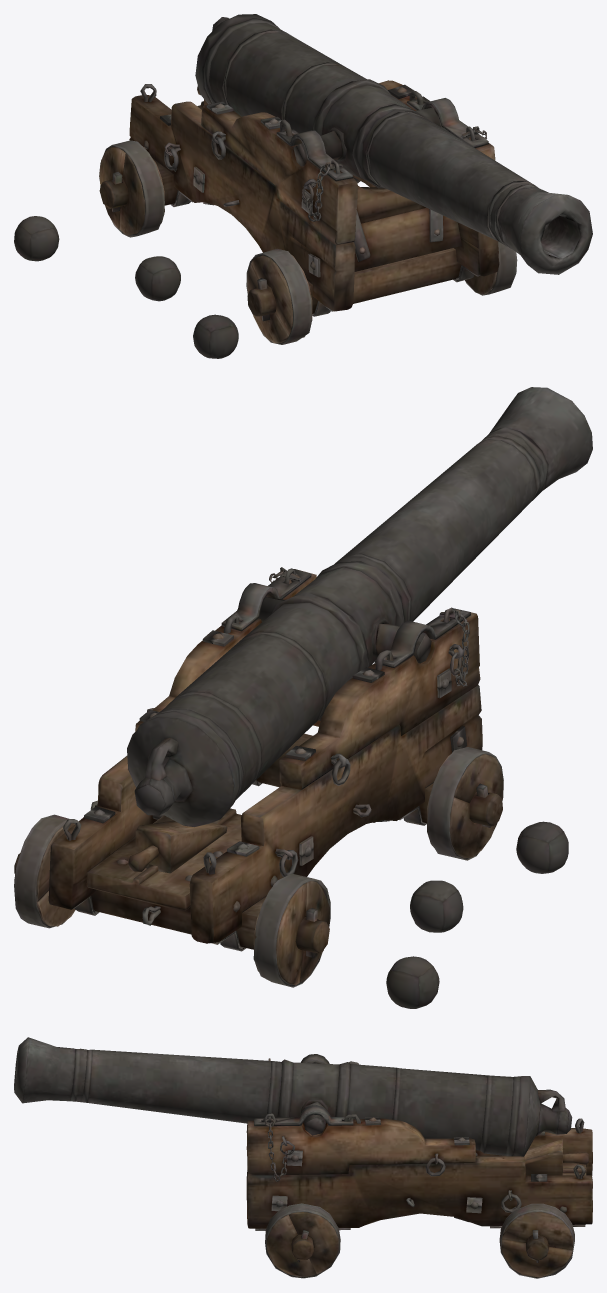
Rendered from cannon.glb.
3 renders of one model, top to bottom at view 1: azimuth 30°, elevation 25°; view 2: azimuth 150°, elevation 25°; view 3: azimuth 270°, elevation 25°, orthographic. The views are drawn at different scales.
Visible parts, largest first — view 1: cannon_01_frame, cannon_01_barrel, cannon_01_wheel_02, cannon_01_wheel_01, cannon_01_ball_03, cannon_01_ball_02, cannon_01_ball_01, cannon_01_wheel_03; view 2: cannon_01_frame, cannon_01_barrel, cannon_01_wheel_01, cannon_01_wheel_02, cannon_01_wheel_04, cannon_01_pusherblock, cannon_01_ball_02, cannon_01_ball_03, cannon_01_ball_01; view 3: cannon_01_barrel, cannon_01_frame, cannon_01_wheel_04, cannon_01_wheel_03, cannon_01_pusherblock.
Boxes of the visible parts, bbox=[...] form: cannon_01_frame: bbox=[99, 80, 499, 321]; cannon_01_barrel: bbox=[195, 14, 592, 274]; cannon_01_wheel_02: bbox=[99, 140, 164, 237]; cannon_01_wheel_01: bbox=[246, 248, 312, 344]; cannon_01_ball_03: bbox=[14, 216, 59, 261]; cannon_01_ball_02: bbox=[135, 256, 180, 301]; cannon_01_ball_01: bbox=[193, 314, 238, 358]; cannon_01_wheel_03: bbox=[465, 241, 517, 295]; cannon_01_frame: bbox=[14, 567, 502, 957]; cannon_01_barrel: bbox=[127, 387, 592, 826]; cannon_01_wheel_01: bbox=[427, 747, 503, 860]; cannon_01_wheel_02: bbox=[253, 873, 330, 987]; cannon_01_wheel_04: bbox=[14, 814, 75, 928]; cannon_01_pusherblock: bbox=[128, 820, 227, 873]; cannon_01_ball_02: bbox=[410, 880, 463, 932]; cannon_01_ball_03: bbox=[386, 956, 439, 1008]; cannon_01_ball_01: bbox=[516, 821, 568, 873]; cannon_01_barrel: bbox=[14, 1037, 572, 1156]; cannon_01_frame: bbox=[246, 1054, 592, 1262]; cannon_01_wheel_04: bbox=[499, 1203, 574, 1278]; cannon_01_wheel_03: bbox=[265, 1203, 340, 1278]; cannon_01_pusherblock: bbox=[503, 1139, 588, 1175].
Bounding box in the file's own units: 1.27 × 0.8588 × 2.3.
Materials: 1 (1 with a texture image).
